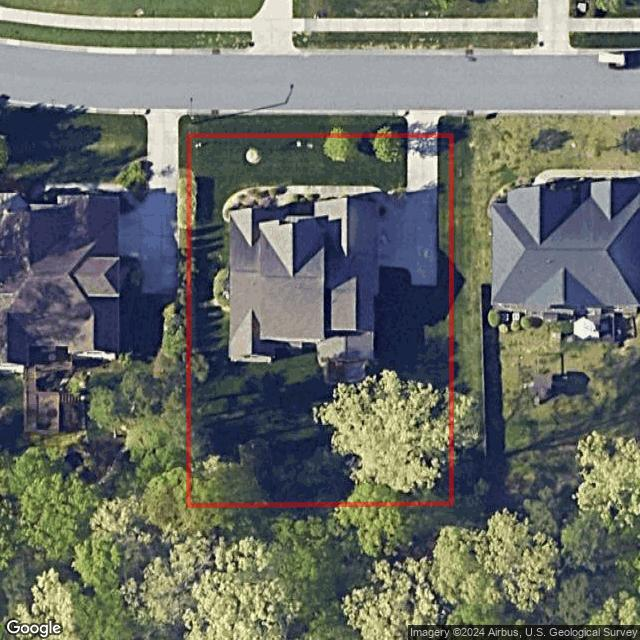Driveway: (380, 135, 437, 285)
Extra-Driveway: (402, 115, 444, 135)
Extra-Lawn: (189, 115, 408, 136), (437, 115, 451, 136)
House: (229, 197, 381, 363)
Lawn: (189, 135, 452, 505)
Other: (287, 193, 377, 217), (222, 188, 283, 222), (325, 360, 366, 383), (214, 264, 230, 311), (189, 169, 197, 226), (246, 148, 262, 165), (289, 341, 302, 350)
Sidewalk: (278, 185, 394, 217)
